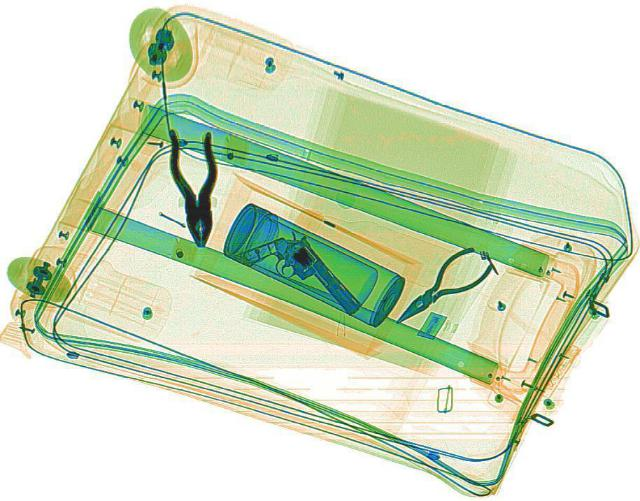Gun: (242, 223, 362, 334)
Pliers: (373, 242, 502, 333), (165, 126, 223, 245)
